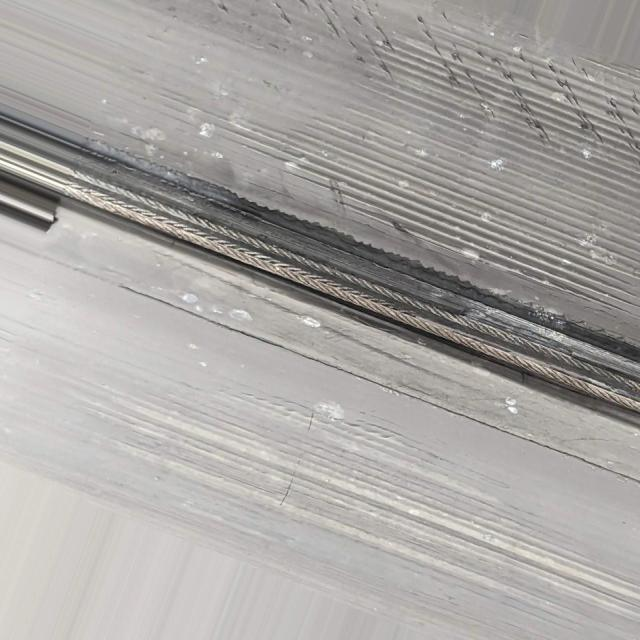Tear: (215, 0, 640, 193)
impact damage: (56, 158, 640, 427), (208, 87, 640, 315)
